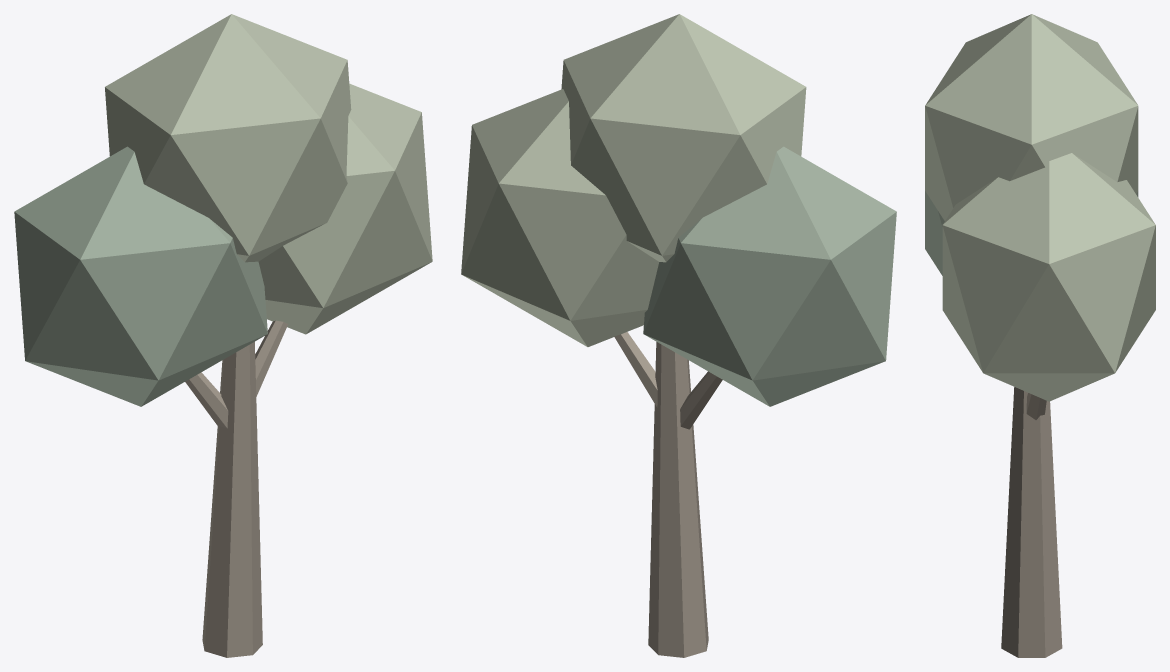
Rendered from SM_ENV_Tree_00_Broadleaf.glb.
3 views of the same model, side by side, from view 1: azimuth 30°, elevation 25°; view 2: azimuth 150°, elevation 25°; view 3: azimuth 270°, elevation 25° (orthographic).
Parts seen in each view (by area): view 1: SM_ENV_Tree_00_Broadleaf; view 2: SM_ENV_Tree_00_Broadleaf; view 3: SM_ENV_Tree_00_Broadleaf.
Boxes of the visible parts, x1=… form: SM_ENV_Tree_00_Broadleaf: x1=14, y1=14, x2=432, y2=657; SM_ENV_Tree_00_Broadleaf: x1=461, y1=14, x2=896, y2=657; SM_ENV_Tree_00_Broadleaf: x1=925, y1=14, x2=1155, y2=657.
Size of the model in its own units: 2.69 by 4 by 1.32.
